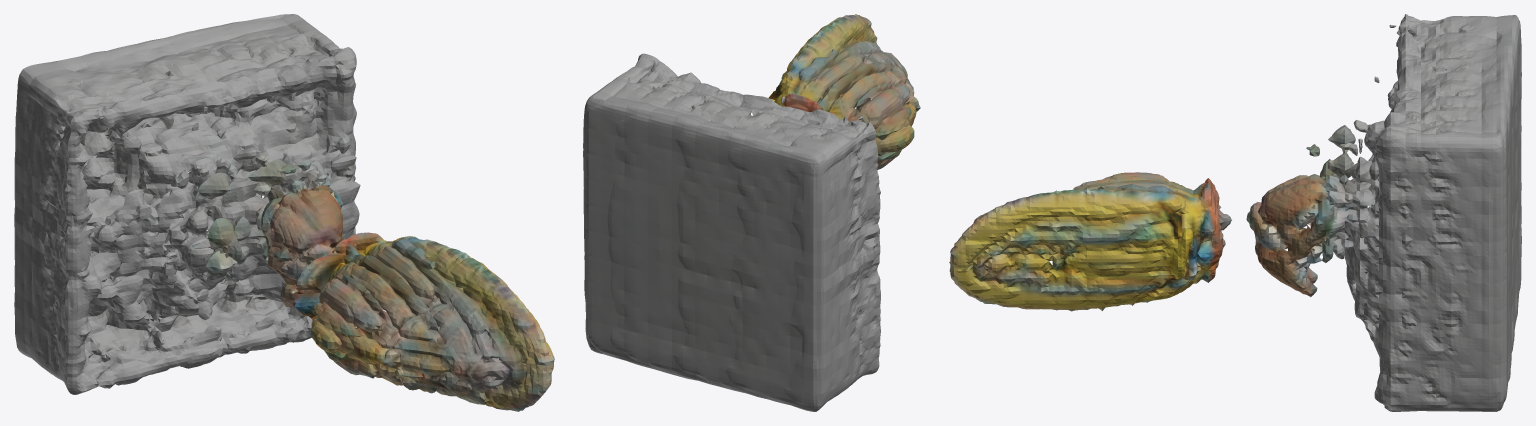
Rendered from modelo1.glb.
The picture shows the model from 3 angles, left to right: view 1: azimuth 30°, elevation 25°; view 2: azimuth 150°, elevation 25°; view 3: azimuth 270°, elevation 25°; orthographic projection. The views are drawn at different scales.
Parts seen in each view (by area): view 1: world; view 2: world; view 3: world.
Boxes of the visible parts, x1,y1,x2,y2 form: world: (14, 14, 554, 411); world: (583, 14, 920, 411); world: (949, 14, 1521, 411).
Bounding box in the file's own units: 0.5704 × 0.5601 × 1.03.
